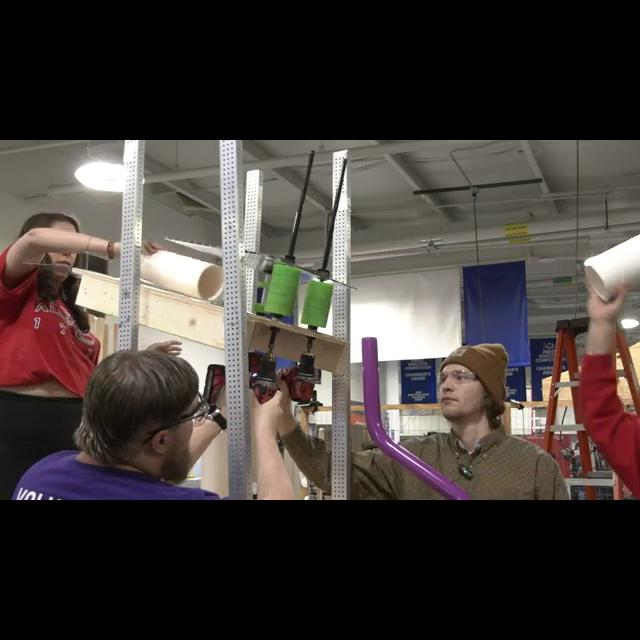CORAL: (140, 252, 224, 300), (582, 232, 638, 302)
